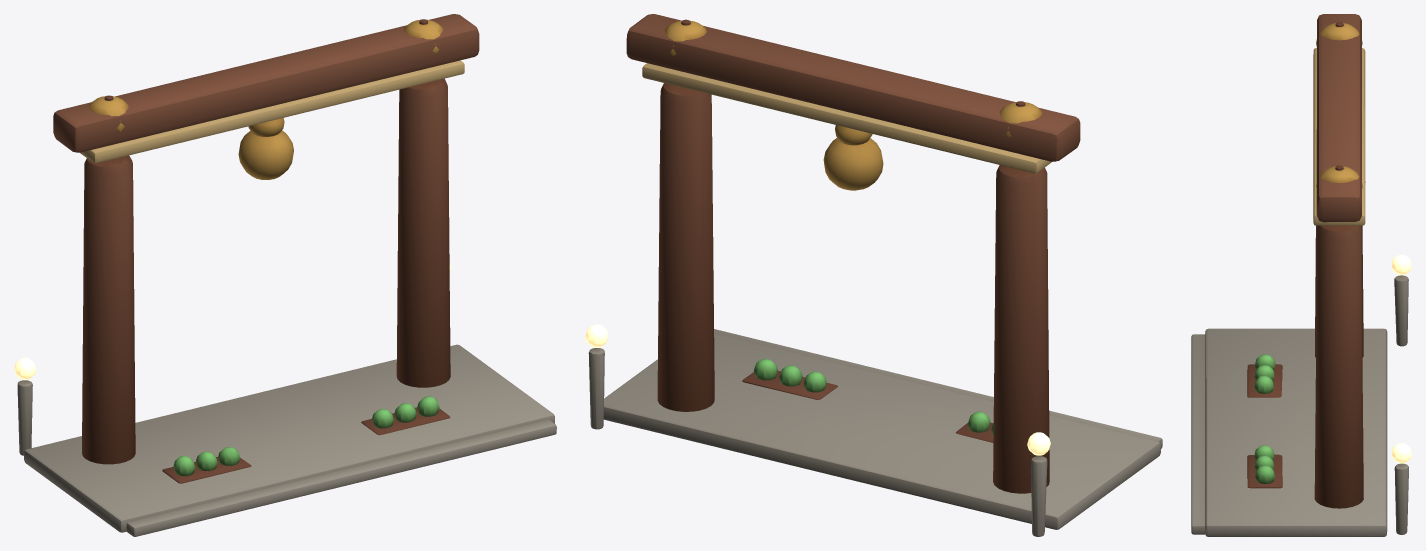
The picture shows the model from 3 angles, left to right: view 1: azimuth 30°, elevation 25°; view 2: azimuth 150°, elevation 25°; view 3: azimuth 270°, elevation 25°; orthographic projection. The views are drawn at different scales.
Parts seen in each view (by area): view 1: gate_626527aa; view 2: gate_626527aa; view 3: gate_626527aa.
Boxes of the visible parts, <box> form: gate_626527aa: <box>14,14,556,536</box>; gate_626527aa: <box>585,14,1162,536</box>; gate_626527aa: <box>1191,14,1411,536</box>.
Bounding box in the file's own units: 5.41 × 4.39 × 2.54.
